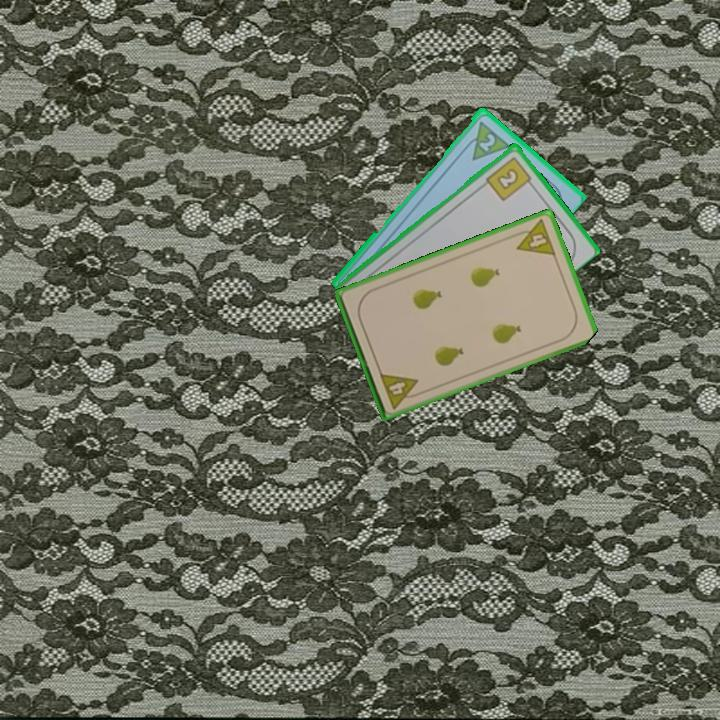2b: (482, 153, 536, 203)
2p: (475, 129, 498, 154)
4p: (509, 216, 559, 259), (376, 369, 425, 412)
